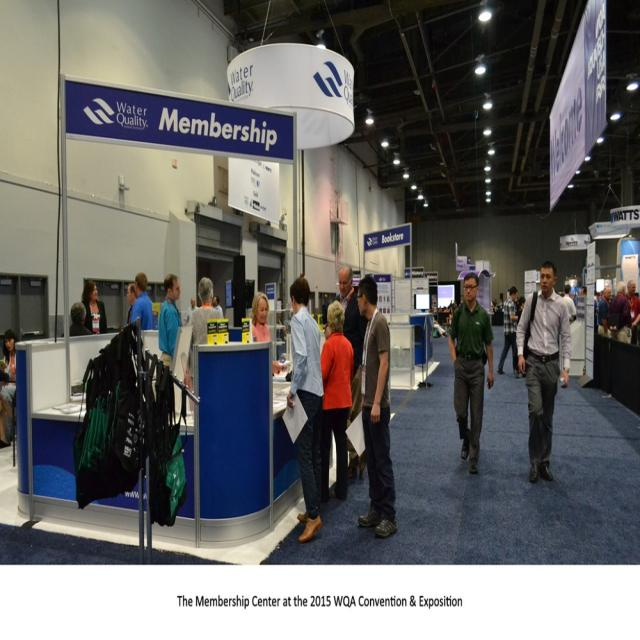body: (514, 257, 573, 485), (354, 272, 400, 538), (285, 275, 326, 543), (446, 272, 494, 475), (323, 264, 365, 483), (314, 297, 355, 504), (422, 292, 520, 336), (574, 280, 639, 334), (250, 291, 289, 376), (606, 278, 634, 396), (183, 276, 224, 346), (158, 272, 184, 370), (496, 285, 519, 376), (0, 328, 17, 443), (80, 279, 108, 335), (129, 271, 154, 333), (60, 300, 94, 338), (625, 278, 640, 346), (597, 285, 613, 339), (561, 283, 578, 326), (182, 297, 199, 327), (126, 283, 138, 325), (211, 294, 225, 320), (516, 296, 526, 324)
